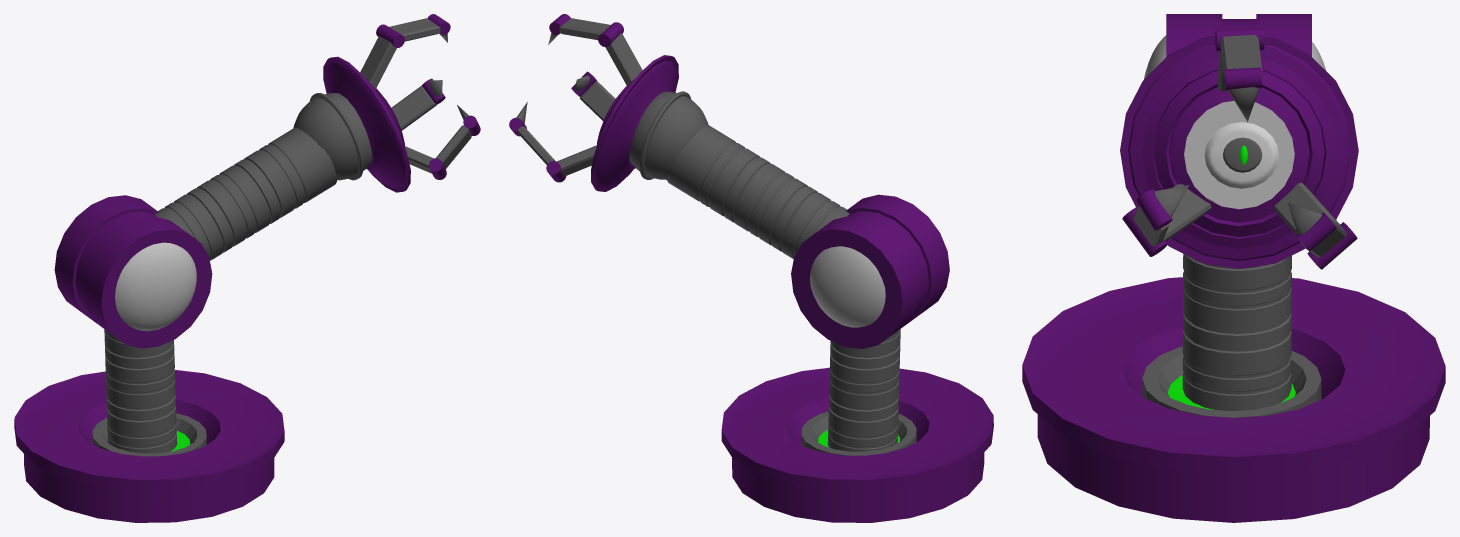
The model's file is RobotArm.fbx.
The picture shows the model from 3 angles, left to right: view 1: azimuth 30°, elevation 25°; view 2: azimuth 150°, elevation 25°; view 3: azimuth 270°, elevation 25°; orthographic projection. The views are drawn at different scales.
Visible parts, largest first — view 1: Hole_Base, pCylinder8, pCylinder20, pCylinder21, Hand_Palm, pSphere1, pCube7 (×3), Hole_Entrance, Finger_01_Base1; view 2: Hole_Base, pCylinder8, pCylinder20, pCylinder21, Hand_Palm, pSphere1, Hole_Entrance, pCube7 (×2), Finger_01_Base1, Finger_01_Base2; view 3: Hole_Base, Hand_Palm, pCylinder21, Hole_Entrance, pCylinder8, Eye_white, pCube7 (×3), pCylinder16 (×3), pCone2 (×3), pCylinder17 (×2), Finger_01_Base4, Finger_01_Base2 (+2 smaller).
Part boxes in pixels (x1,y1,x2,y2): Hole_Base: (14,370,284,522); pCylinder8: (54,195,212,348); pCylinder20: (155,128,336,260); pCylinder21: (104,329,177,453); Hand_Palm: (323,56,410,192); pSphere1: (293,93,372,180); pCube7 (×3): (389,18,471,168); Hole_Entrance: (92,413,206,456); Finger_01_Base1: (360,36,396,88); Hole_Base: (721,367,993,522); pCylinder8: (791,194,949,348); pCylinder20: (666,125,849,258); pCylinder21: (827,329,900,451); Hand_Palm: (591,55,678,191); pSphere1: (629,91,708,179); Hole_Entrance: (801,411,916,455); pCube7 (×2): (559,18,615,120); Finger_01_Base1: (605,33,642,86); Finger_01_Base2: (556,145,596,176); Hole_Base: (1022,277,1445,522); Hand_Palm: (1120,36,1358,268); pCylinder21: (1182,254,1291,411); Hole_Entrance: (1142,346,1321,417); pCylinder8: (1144,14,1325,79); Eye_white: (1204,122,1278,188); pCube7 (×3): (1133,35,1346,257); pCylinder16 (×3): (1122,28,1357,269); pCone2 (×3): (1155,87,1321,234); pCylinder17 (×2): (1136,67,1261,230); Finger_01_Base4: (1163,184,1213,241); Finger_01_Base2: (1273,182,1339,234).
Bounding box in the file's own units: 69.29 × 58.03 × 37.38.
